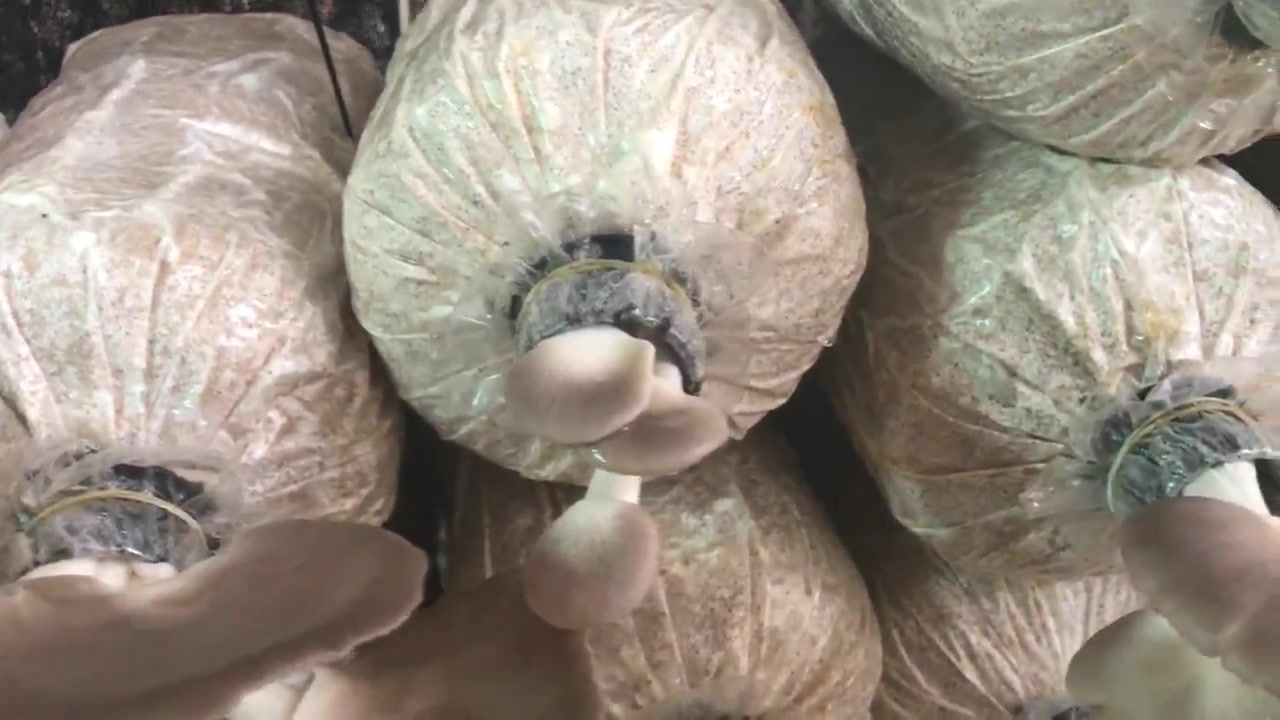nam: (1, 498, 597, 720), (505, 271, 727, 626), (1067, 400, 1278, 720)
